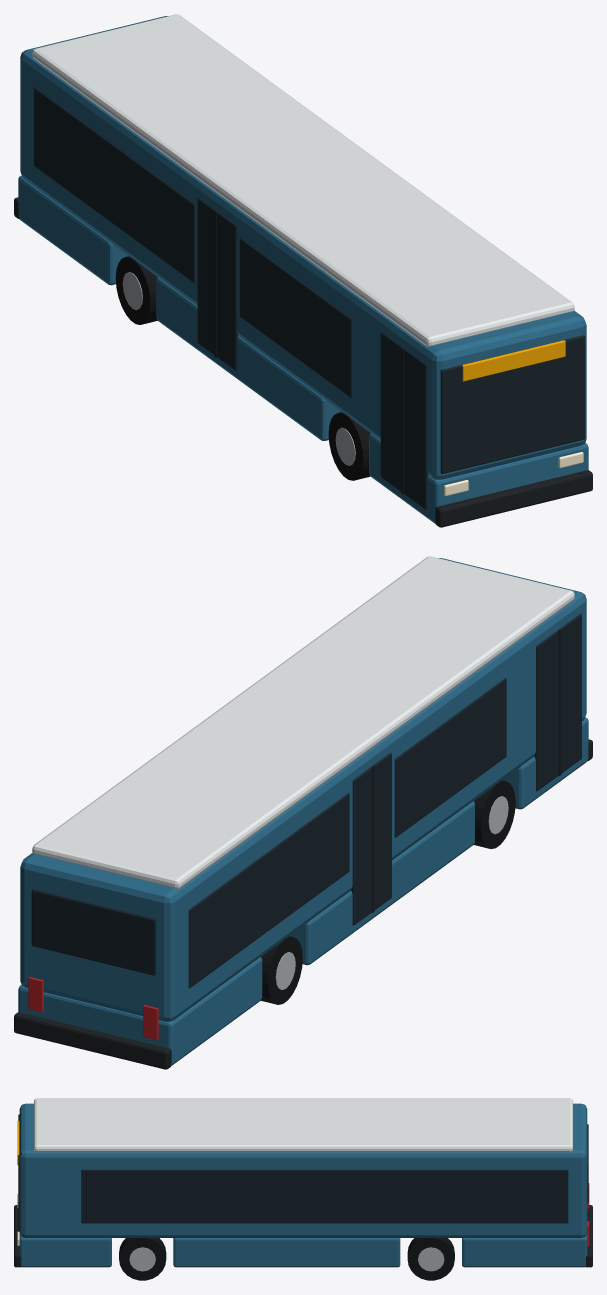
File: buss.glb
3 views of the same model, one above another, from view 1: azimuth 30°, elevation 25°; view 2: azimuth 150°, elevation 25°; view 3: azimuth 270°, elevation 25° (orthographic). The views are drawn at different scales.
Parts seen in each view (by area): view 1: Tak, Kropp, Frontrute, VinduH2, VinduH1, Dor0, Nedre.001, Dor1, Nedre, Nedre.002, Stotfanger, Linjeskilt (+2 smaller); view 2: Tak, Kropp, VinduH2, VinduH1, Nedre.002, Bakrute, Dor0, Nedre.001, Dor1, StotfangerB, Hjul.002, Nedre (+1 smaller); view 3: Tak, Vinduer+1, Kropp, Nedre.001, Nedre.002, Nedre, Hjul.003, Hjul.001, Felg.003, Felg.001, StotfangerB, Stotfanger (+2 smaller).
Boxes of the visible parts, bbox=[...] form: Tak: bbox=[32, 14, 574, 346]; Kropp: bbox=[20, 16, 586, 479]; Frontrute: bbox=[440, 335, 585, 473]; VinduH2: bbox=[34, 87, 194, 282]; VinduH1: bbox=[239, 238, 351, 397]; Dor0: bbox=[380, 332, 428, 509]; Nedre.001: bbox=[156, 277, 341, 440]; Dor1: bbox=[197, 198, 237, 370]; Nedre: bbox=[369, 433, 588, 523]; Nedre.002: bbox=[18, 175, 128, 285]; Stotfanger: bbox=[435, 470, 592, 527]; Linjeskilt: bbox=[462, 340, 565, 381]; Tak: bbox=[32, 556, 574, 888]; Kropp: bbox=[20, 558, 586, 1021]; VinduH2: bbox=[188, 793, 349, 988]; VinduH1: bbox=[394, 678, 506, 837]; Nedre.002: bbox=[18, 957, 262, 1065]; Bakrute: bbox=[31, 889, 155, 975]; Dor0: bbox=[534, 613, 581, 791]; Nedre.001: bbox=[290, 801, 474, 965]; Dor1: bbox=[351, 752, 391, 925]; StotfangerB: bbox=[14, 1012, 171, 1069]; Hjul.002: bbox=[261, 936, 302, 1004]; Nedre: bbox=[503, 717, 588, 809]; Tak: bbox=[34, 1098, 572, 1152]; Vinduer+1: bbox=[86, 1169, 568, 1223]; Kropp: bbox=[19, 1103, 587, 1237]; Nedre.001: bbox=[173, 1238, 400, 1267]; Nedre.002: bbox=[462, 1233, 587, 1267]; Nedre: bbox=[19, 1233, 111, 1267]; Hjul.003: bbox=[407, 1237, 454, 1280]; Hjul.001: bbox=[119, 1237, 166, 1280]; Felg.003: bbox=[418, 1247, 444, 1271]; Felg.001: bbox=[129, 1247, 155, 1271]; StotfangerB: bbox=[585, 1205, 592, 1267]; Stotfanger: bbox=[14, 1205, 21, 1267].
Bounding box in the file's own units: 2.61 × 3.11 × 12.24.
